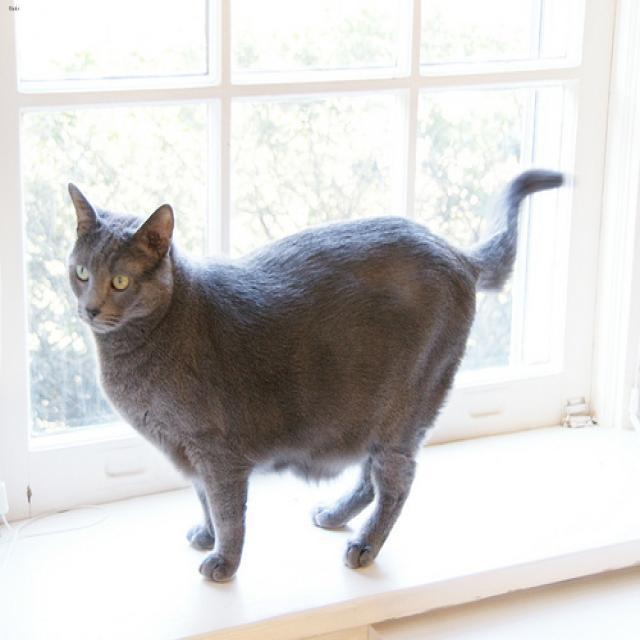Russian_Blue: (67, 182, 173, 332)
